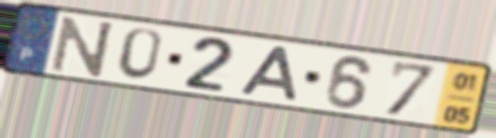0: (112, 27, 165, 83)
2: (179, 36, 237, 95)
6: (323, 55, 377, 111)
7: (386, 58, 442, 119)
A: (235, 44, 300, 104)
N: (48, 14, 118, 79)
